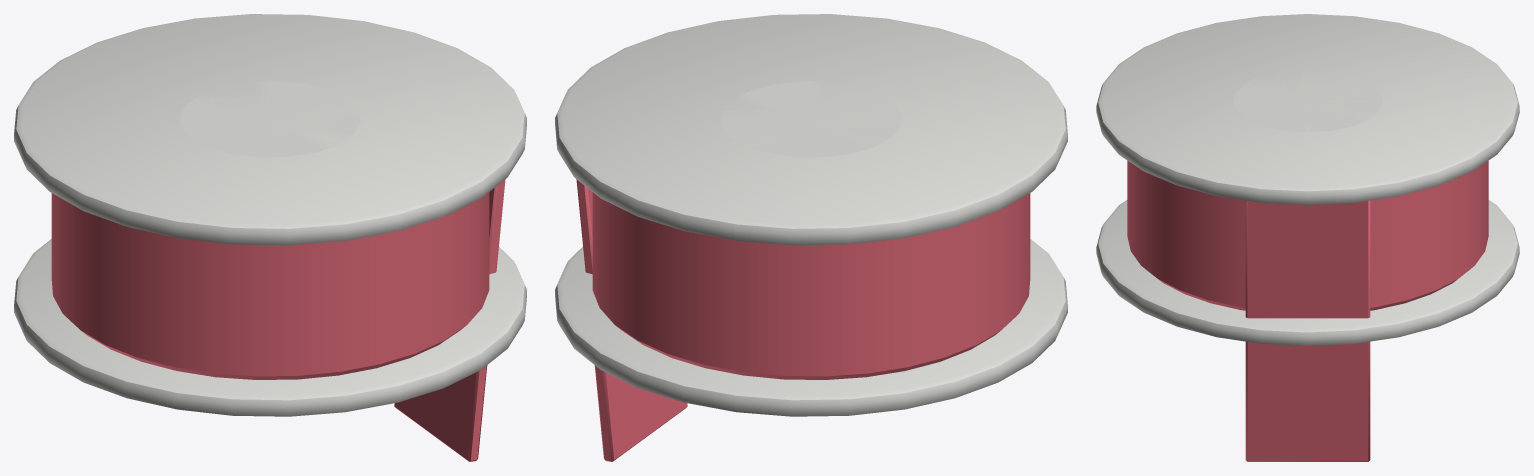
Rendered from ribbon_reel.glb.
3 renders of one model, left to right at view 1: azimuth 30°, elevation 25°; view 2: azimuth 150°, elevation 25°; view 3: azimuth 270°, elevation 25°, orthographic. The views are drawn at different scales.
Visible parts, largest first — view 1: ribbon_reel; view 2: ribbon_reel; view 3: ribbon_reel.
Part boxes in pixels (x1,y1,x2,y2): ribbon_reel: [14, 14, 526, 461]; ribbon_reel: [555, 14, 1067, 461]; ribbon_reel: [1096, 14, 1519, 461].
Bounding box in the file's own units: 0.068 × 0.0519 × 0.068.
